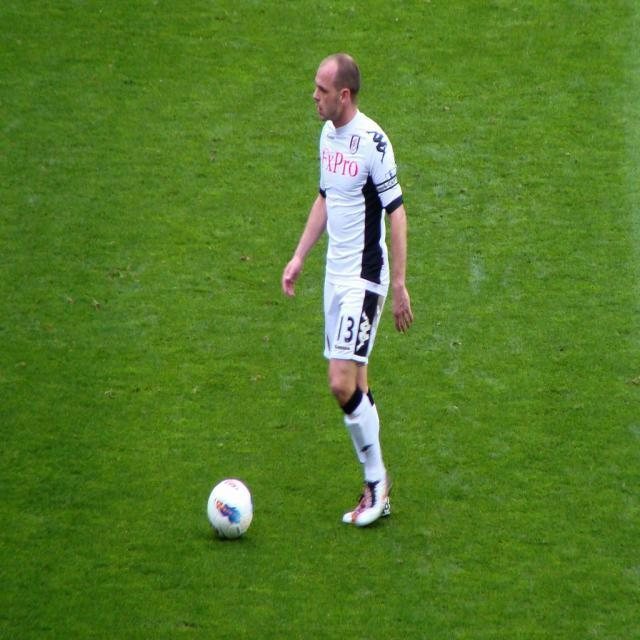football: (197, 476, 267, 542)
